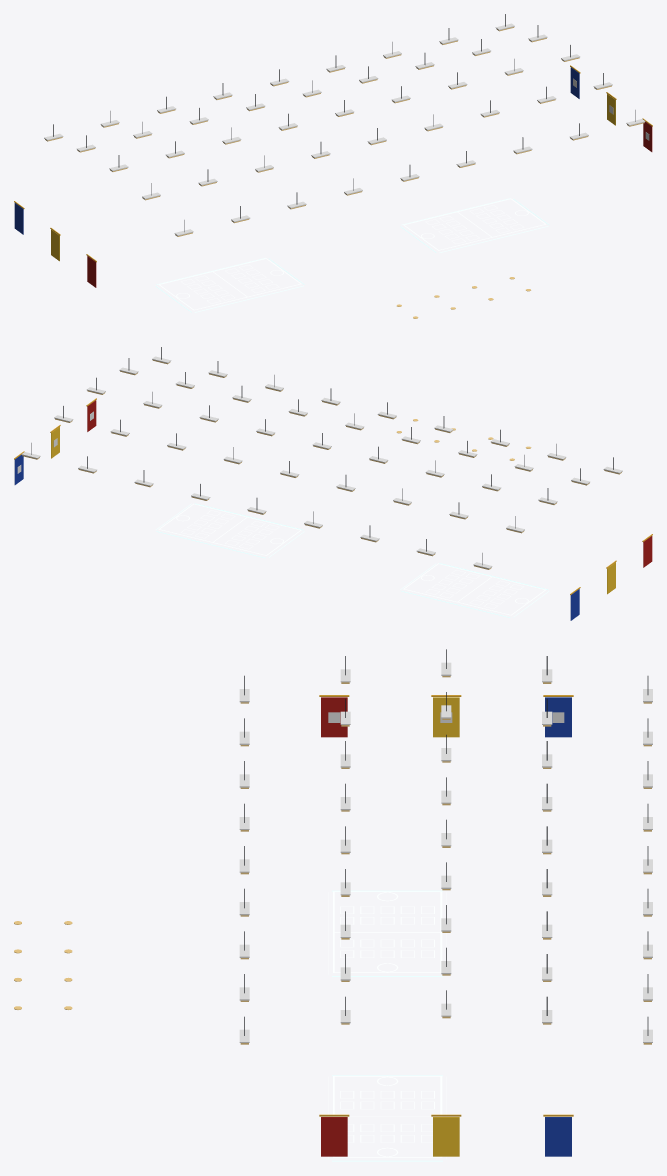
File: SM_Gym_NoCol.fbx
The picture shows the model from 3 angles, top to bottom: view 1: azimuth 30°, elevation 25°; view 2: azimuth 150°, elevation 25°; view 3: azimuth 270°, elevation 25°; orthographic projection. The views are drawn at different scales.
Visible parts, largest first — view 1: SM_Gym_NoCol; view 2: SM_Gym_NoCol; view 3: SM_Gym_NoCol.
Boxes of the visible parts, x1,y1,x2,y2 form: SM_Gym_NoCol: (14, 14, 652, 318); SM_Gym_NoCol: (14, 347, 652, 620); SM_Gym_NoCol: (14, 649, 652, 1161).
Size of the model in its own units: 59.16 by 14.13 by 38.04.
